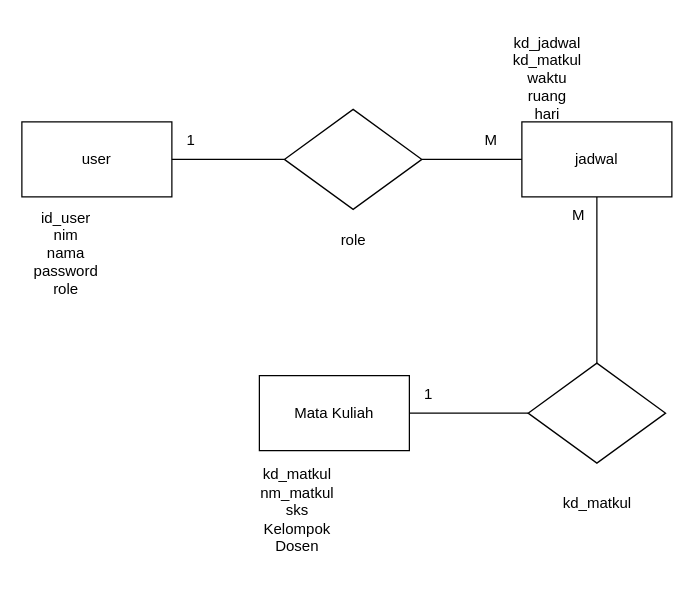
Image size: 694x603. Some labels were removed from this diagram. The box of each missing label's shape, as (x1, y1, x2, y2) in pixels:
input: (283, 108, 422, 209)
tambah: (527, 362, 666, 463)
